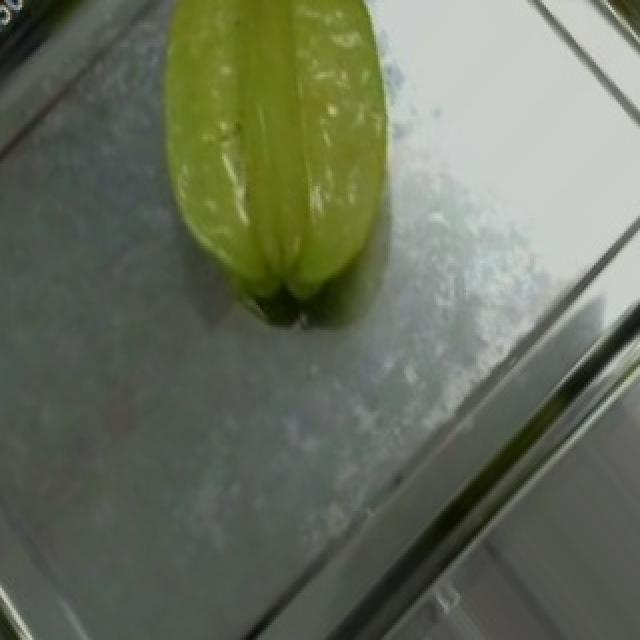fruit: (82, 0, 472, 332)
